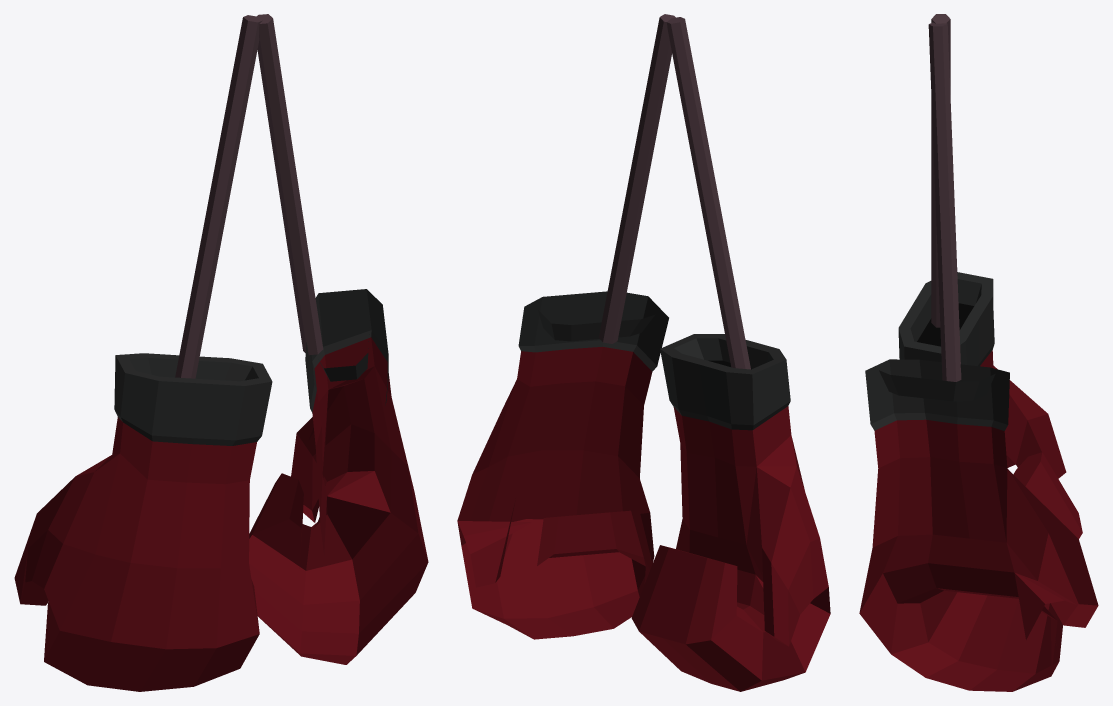
Rendered from Gloves.fbx.
3 renders of one model, left to right at view 1: azimuth 30°, elevation 25°; view 2: azimuth 150°, elevation 25°; view 3: azimuth 270°, elevation 25°, orthographic. The views are drawn at different scales.
Visible parts, largest first — view 1: Gloves; view 2: Gloves; view 3: Gloves.
Part boxes in pixels (bbox=[...]): Gloves: bbox=[14, 14, 428, 691]; Gloves: bbox=[457, 14, 830, 691]; Gloves: bbox=[859, 14, 1098, 691].
Size of the model in its own units: 39.72 by 68.13 by 23.7.
